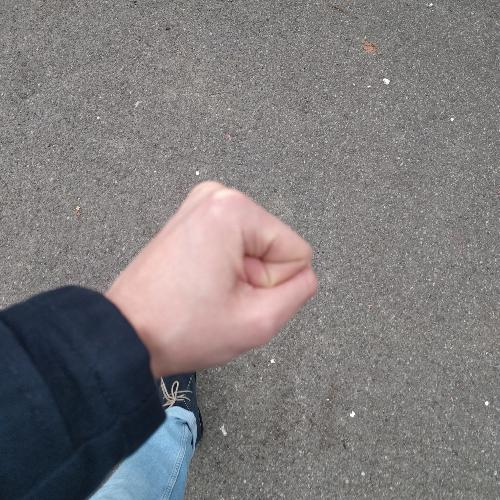rock: (105, 169, 324, 380)
